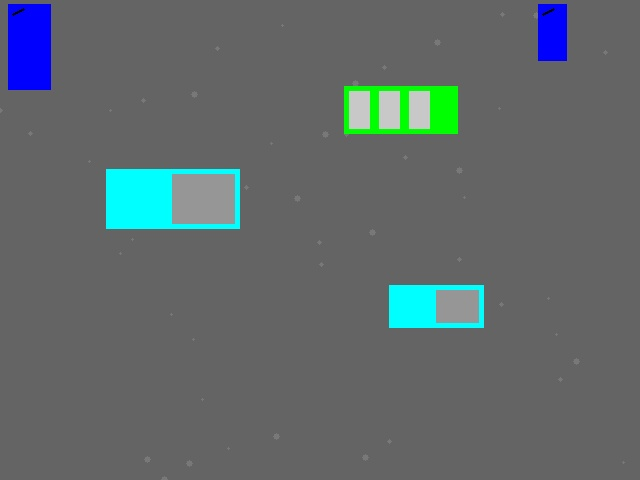bus: (344, 86, 457, 133)
motorcycle: (8, 4, 50, 89), (538, 4, 566, 60)
truck: (106, 169, 239, 228), (389, 285, 483, 327)
